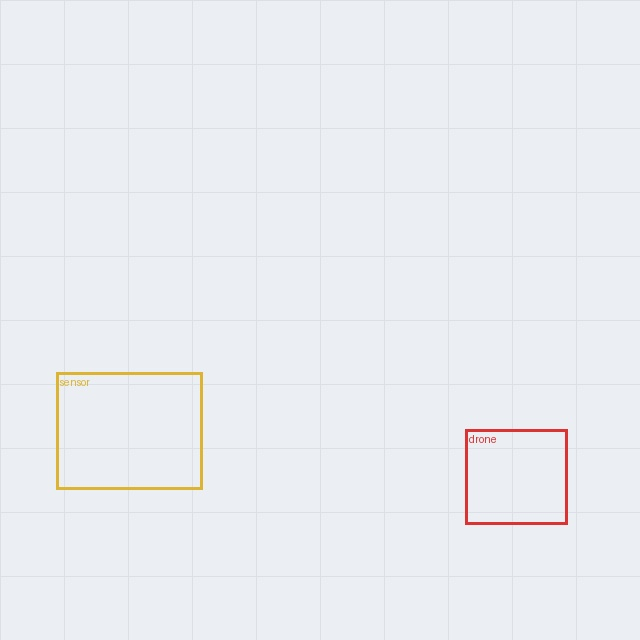drone: (465, 429, 567, 524)
sensor: (56, 372, 202, 489)
